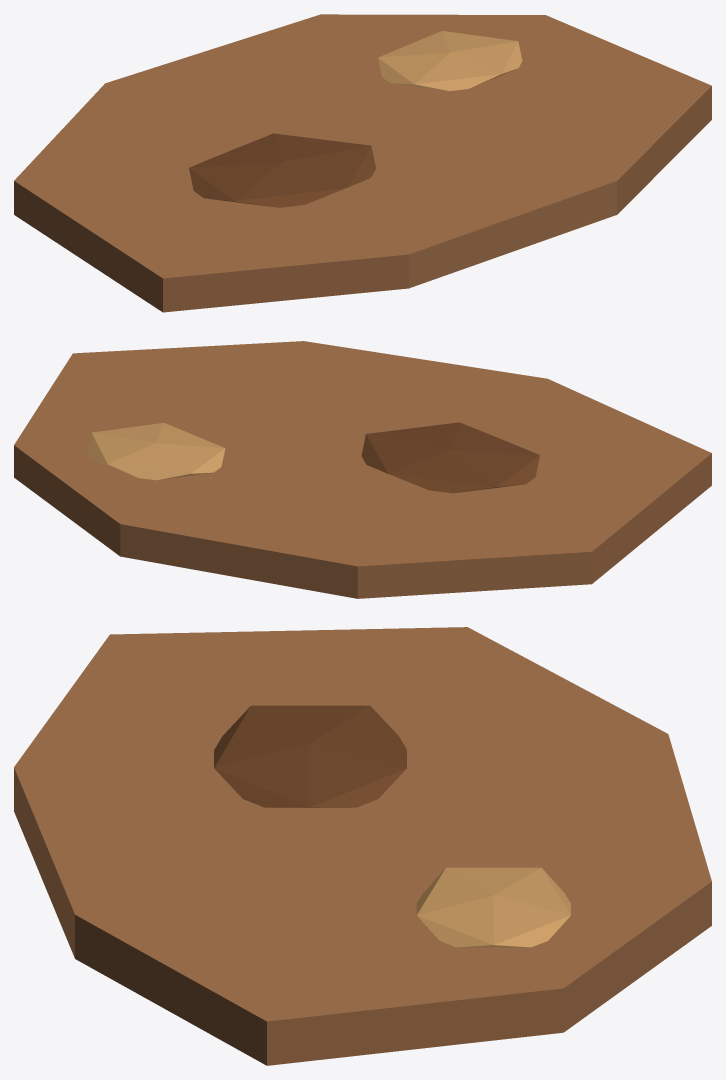
The model's file is AnimalHide.glb.
3 views of the same model, one above another, from view 1: azimuth 30°, elevation 25°; view 2: azimuth 150°, elevation 25°; view 3: azimuth 270°, elevation 25° (orthographic). The views are drawn at different scales.
Visible parts, largest first — view 1: AnimalHide_Mesh; view 2: AnimalHide_Mesh; view 3: AnimalHide_Mesh.
Boxes of the visible parts, <box> form: AnimalHide_Mesh: <box>14,14,711,312</box>; AnimalHide_Mesh: <box>14,341,711,598</box>; AnimalHide_Mesh: <box>14,627,711,1065</box>.
Bounding box in the file's own units: 0.535 × 0.038 × 0.4.
